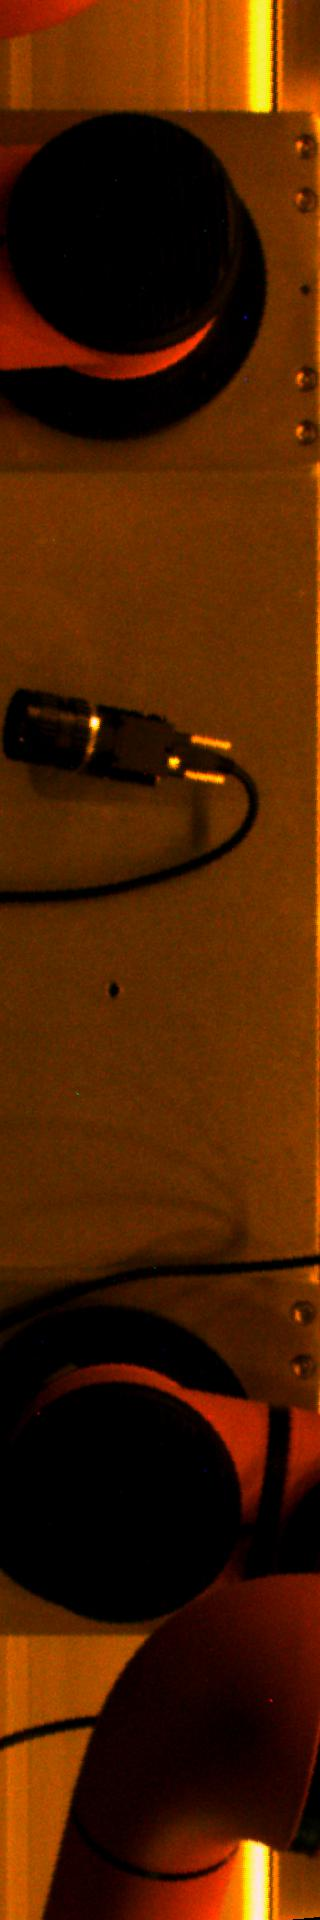keyPoint_2: (98, 975, 128, 1005)
